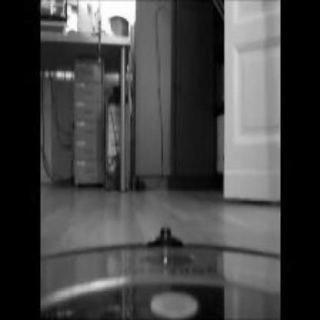other: (102, 3, 130, 15)
